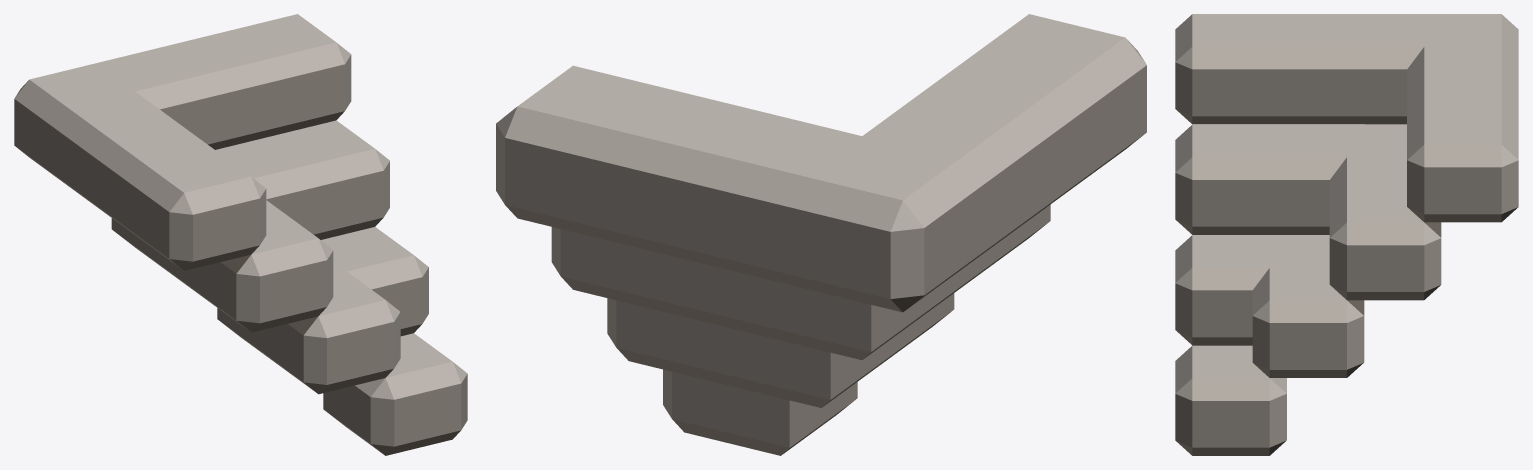
The model's file is m_kub_stone_stairs_only_cornerIn.FBX.
3 renders of one model, left to right at view 1: azimuth 30°, elevation 25°; view 2: azimuth 150°, elevation 25°; view 3: azimuth 270°, elevation 25°, orthographic. The views are drawn at different scales.
Visible parts, largest first — view 1: m_kub_stone_stairs_only_cornerIn; view 2: m_kub_stone_stairs_only_cornerIn; view 3: m_kub_stone_stairs_only_cornerIn.
Boxes of the visible parts, x1,y1,x2,y2 form: m_kub_stone_stairs_only_cornerIn: (14, 14, 467, 455); m_kub_stone_stairs_only_cornerIn: (496, 14, 1146, 455); m_kub_stone_stairs_only_cornerIn: (1175, 14, 1518, 455).
Bounding box in the file's own units: 2 × 2 × 2.
